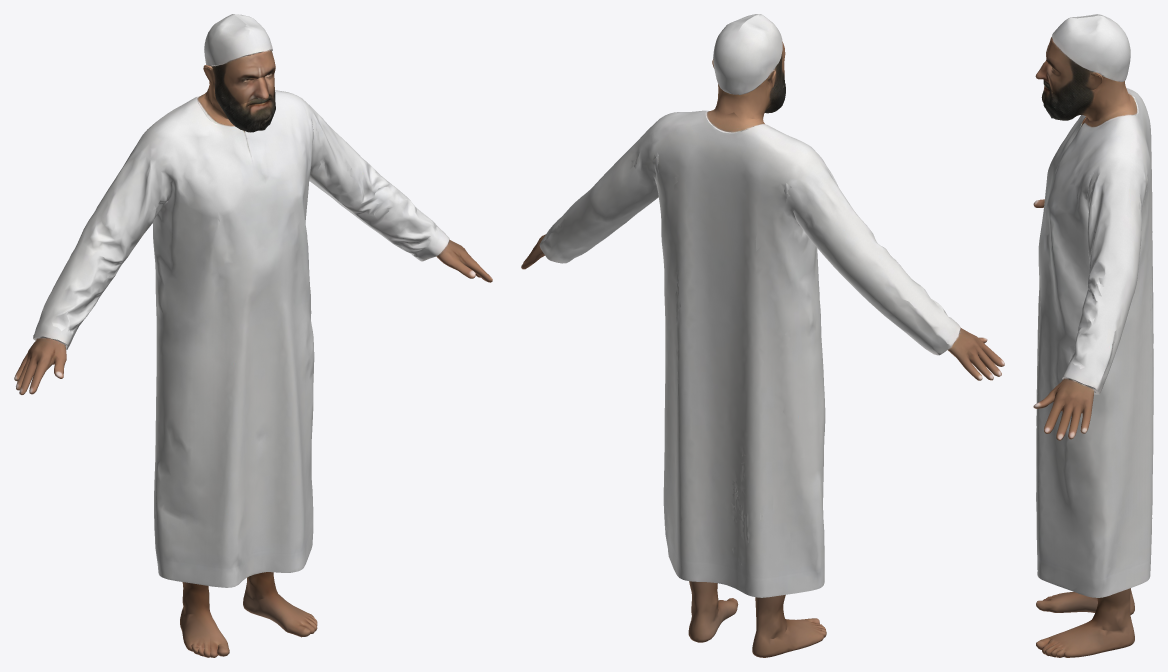
File: levi_1.glb
3 renders of one model, left to right at view 1: azimuth 30°, elevation 25°; view 2: azimuth 150°, elevation 25°; view 3: azimuth 270°, elevation 25°, orthographic.
Visible parts, largest first — view 1: Mesh; view 2: Mesh; view 3: Mesh.
Boxes of the visible parts, x1,y1,x2,y2 form: Mesh: (14, 14, 492, 657); Mesh: (521, 14, 1004, 657); Mesh: (1033, 14, 1153, 657).
Bounding box in the file's own units: 1.53 × 1.9 × 0.3384.
Materials: 1 (1 with a texture image).
